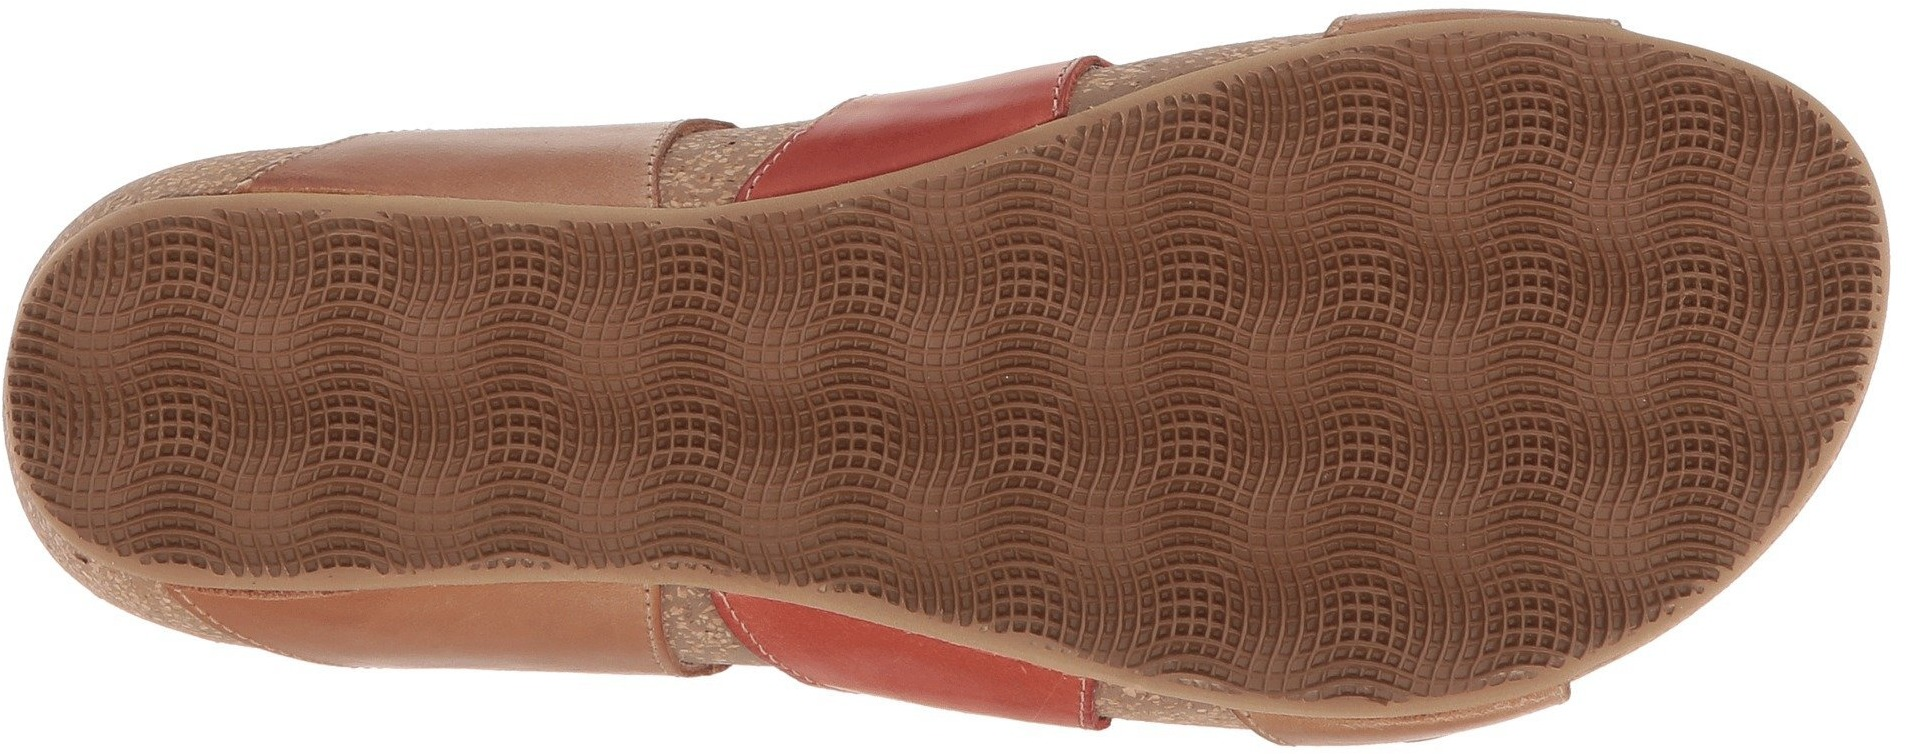other: (1321, 103, 1716, 467), (852, 223, 1241, 589), (470, 268, 741, 523), (67, 274, 327, 525), (1265, 476, 1485, 686), (1491, 472, 1665, 628), (1722, 179, 1873, 337), (327, 268, 463, 393), (1171, 91, 1303, 208)
